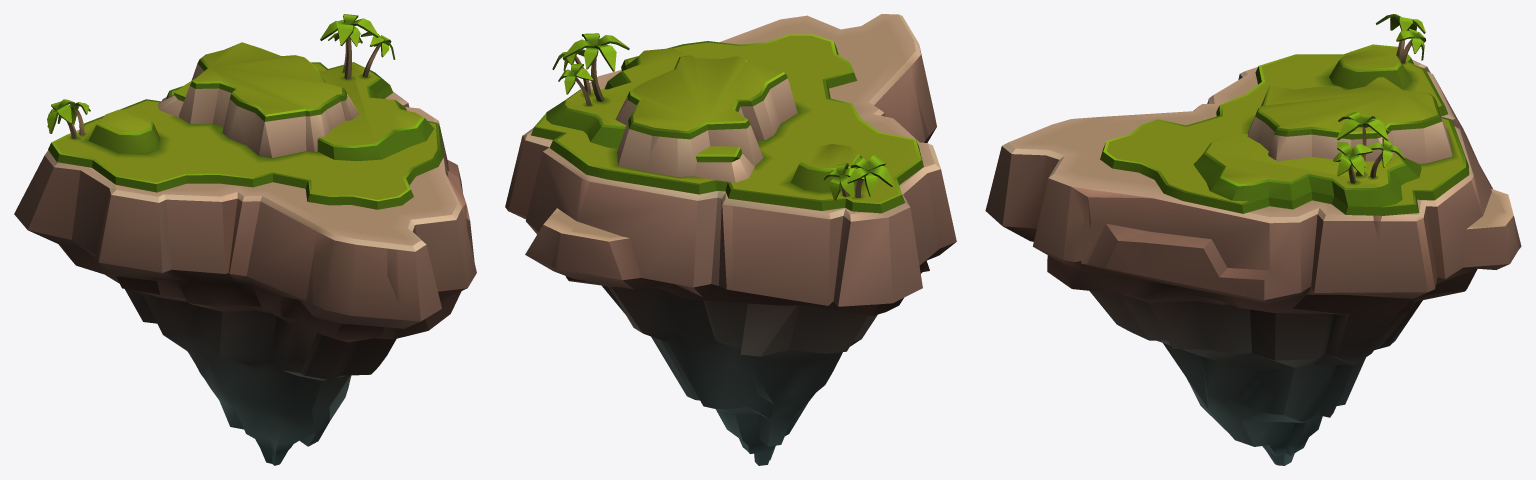
The model's file is Pirate_Big_Island_2.fbx.
3 views of the same model, side by side, from view 1: azimuth 30°, elevation 25°; view 2: azimuth 150°, elevation 25°; view 3: azimuth 270°, elevation 25° (orthographic). The views are drawn at different scales.
Parts seen in each view (by area): view 1: Plane.026, Plane.011, Plane.012, Plane.020, Plane.015, Plane.036, Plane.039, Plane.037; view 2: Plane.026, Plane.011, Plane.012, Plane.020, Plane.015, Plane.036, Plane.039, Plane.040, Plane.038; view 3: Plane.026, Plane.011, Plane.012, Plane.020, Plane.015, Plane.037, Plane.036, Plane.039, Plane.038, Plane.040.
Part boxes in pixels (x1,y1,x2,y2): Plane.026: (14, 91, 476, 465); Plane.011: (48, 62, 443, 209); Plane.012: (157, 42, 359, 163); Plane.020: (317, 64, 434, 161); Plane.015: (76, 109, 171, 158); Plane.036: (320, 14, 378, 82); Plane.039: (47, 99, 81, 140); Plane.037: (358, 32, 395, 79); Plane.026: (505, 14, 956, 465); Plane.011: (531, 34, 923, 213); Plane.012: (606, 55, 813, 182); Plane.020: (546, 48, 749, 148); Plane.015: (777, 144, 868, 196); Plane.036: (562, 33, 629, 104); Plane.039: (847, 155, 893, 199); Plane.040: (823, 163, 864, 200); Plane.038: (558, 64, 594, 107); Plane.026: (985, 60, 1521, 465); Plane.011: (1100, 44, 1469, 215); Plane.012: (1240, 77, 1459, 168); Plane.020: (1193, 133, 1421, 206); Plane.015: (1313, 47, 1420, 91); Plane.037: (1333, 142, 1372, 185); Plane.036: (1336, 112, 1389, 178); Plane.039: (1376, 14, 1425, 59); Plane.038: (1367, 138, 1404, 179); Plane.040: (1396, 28, 1425, 64).
Size of the model in its own units: 91.48 by 90.03 by 109.
